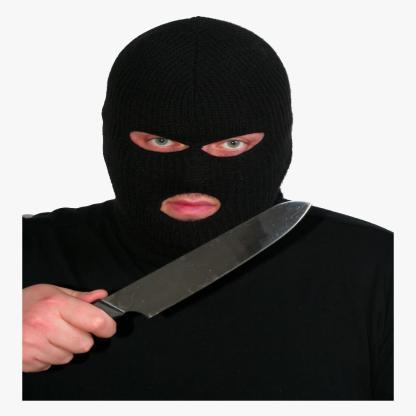criminal: (22, 16, 395, 400)
weapon: (87, 198, 313, 323)
